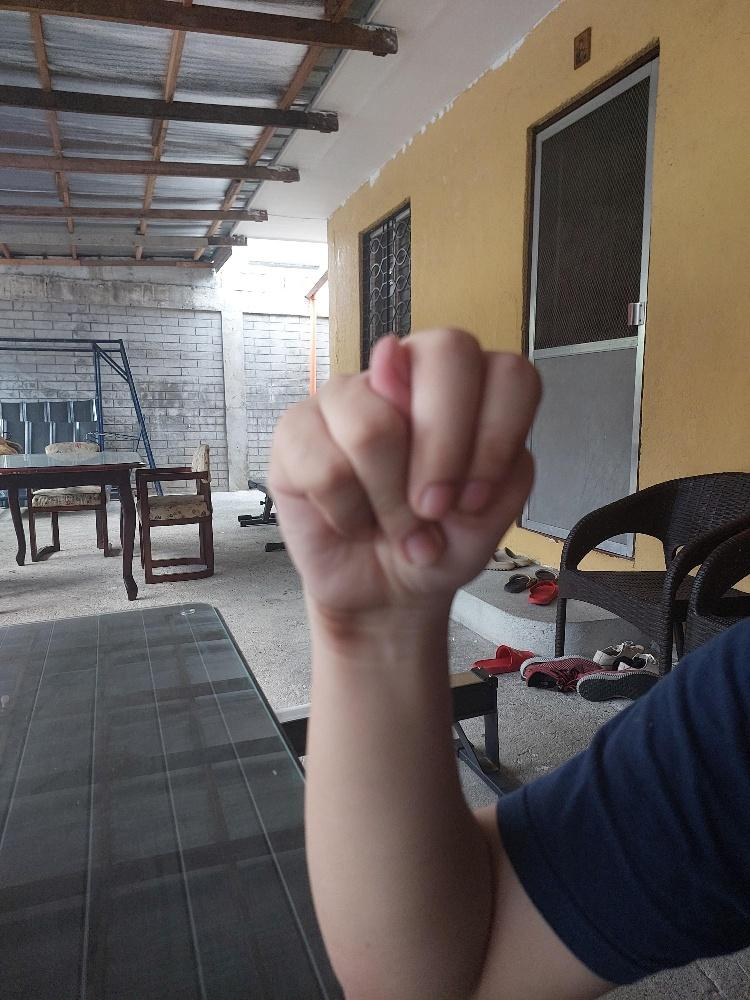n: (263, 319, 547, 615)
